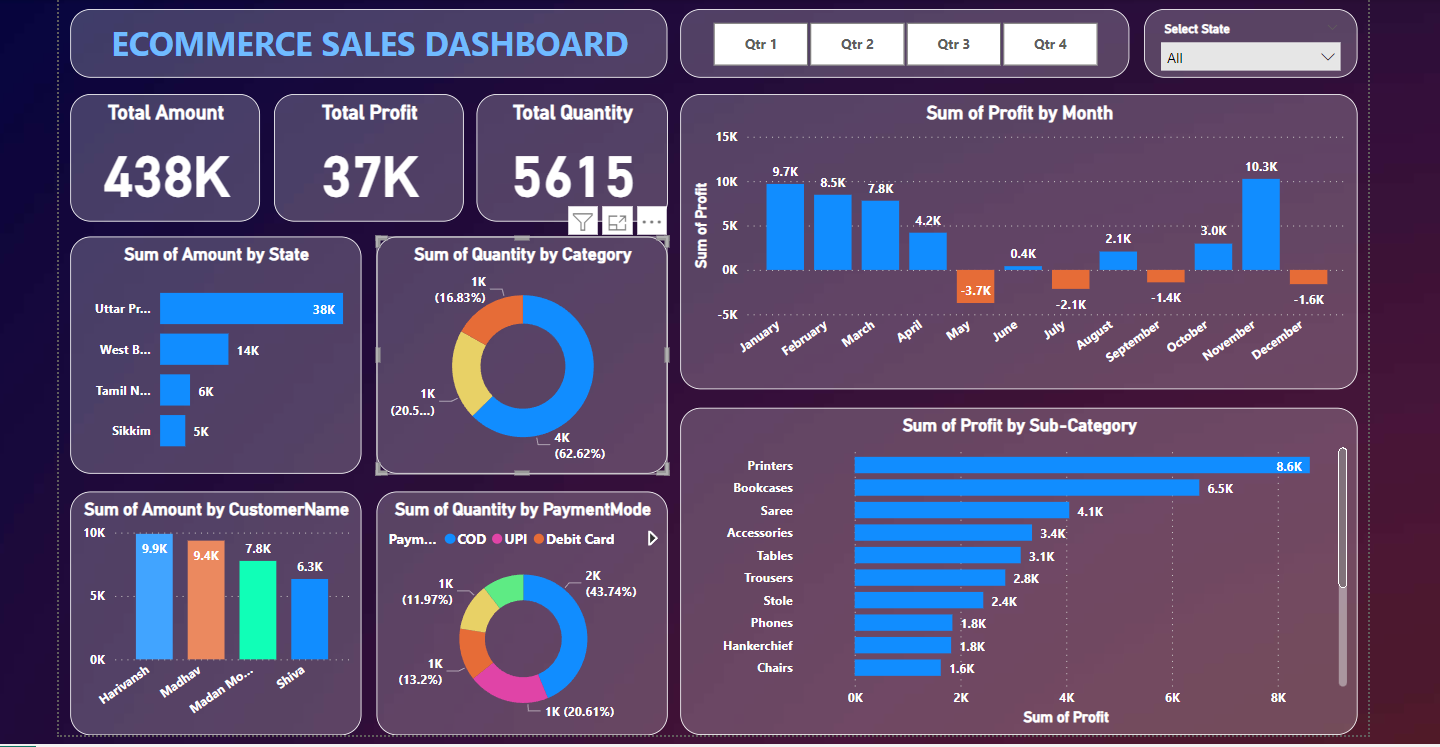

The dashboard page shown, as its layout file describes it:
{"tool":"powerbi","page":{"name":"Page 1","canvas":[1280,720],"ordinal":0},"visuals":[{"type":"textbox","box":[11,9.8,584.3,67.2],"z":0},{"type":"card","title":"Total Amount","fields":{"Values":["Details.Amount"]},"box":[11,92.9,185.8,124.7],"z":1000},{"type":"card","title":"Total Profit","fields":{"Values":["Details.Profit"]},"box":[210.3,92.9,185.8,124.7],"z":2000},{"type":"card","title":"Total Quantity","fields":{"Values":["Details.Quantity"]},"box":[408.3,92.9,187,124.7],"z":3000},{"type":"barChart","fields":{"Category":["Orders.State"],"Y":["Details.Amount"]},"box":[11,232.3,284.8,232.3],"z":4000},{"type":"donutChart","fields":{"Category":["Details.Category"],"Y":["Details.Quantity"]},"box":[310.5,232.3,284.8,232.3],"z":5000},{"type":"columnChart","fields":{"Category":["Orders.CustomerName"],"Y":["Details.Amount"]},"box":[11,481.6,284.8,238.4],"z":6000},{"type":"donutChart","fields":{"Category":["Details.PaymentMode"],"Y":["Details.Quantity"]},"box":[310,482,285,238],"z":7000},{"type":"columnChart","fields":{"Category":["Orders.Order Date.Variation.Date Hierarchy.Month"],"Y":["Details.Profit"]},"box":[607.5,92.9,662.5,288.5],"z":8000},{"type":"barChart","fields":{"Category":["Details.Sub-Category"],"Y":["Details.Profit"]},"box":[607.5,399.7,662.5,320.3],"z":8001},{"type":"slicer","fields":{"Values":["Orders.Order Date.Variation.Date Hierarchy.Quarter"]},"box":[607.5,9.8,438.8,67.2],"z":8002},{"type":"slicer","fields":{"Values":["Orders.State"]},"box":[1061.1,9.8,209,67.2],"z":8003}]}

Visuals, with their boxes in screenshot pixels (x1, y1, x2, y2):
textbox: <box>67,10,665,79</box>
"Total Amount" card: <box>67,95,257,222</box>
"Total Profit" card: <box>271,95,461,222</box>
"Total Quantity" card: <box>474,95,665,222</box>
barChart - Orders.State x Details.Amount: <box>67,237,359,475</box>
donutChart - Details.Category x Details.Quantity: <box>374,237,665,475</box>
columnChart - Orders.CustomerName x Details.Amount: <box>67,492,359,736</box>
donutChart - Details.PaymentMode x Details.Quantity: <box>373,493,664,736</box>
columnChart - Orders.Order Date.Variation.Date Hierarchy.Month x Details.Profit: <box>677,95,1354,390</box>
barChart - Details.Sub-Category x Details.Profit: <box>677,409,1354,736</box>
slicer - Orders.Order Date.Variation.Date Hierarchy.Quarter: <box>677,10,1126,79</box>
slicer - Orders.State: <box>1141,10,1354,79</box>
